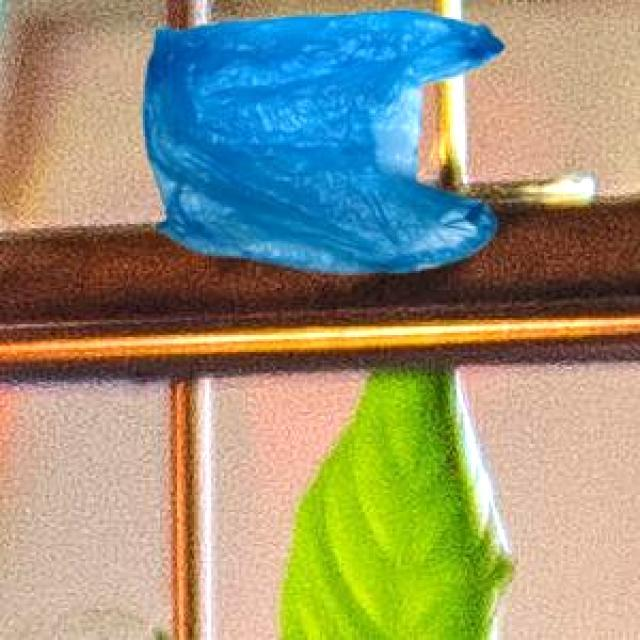Plastic_Bag: (140, 7, 500, 270)
